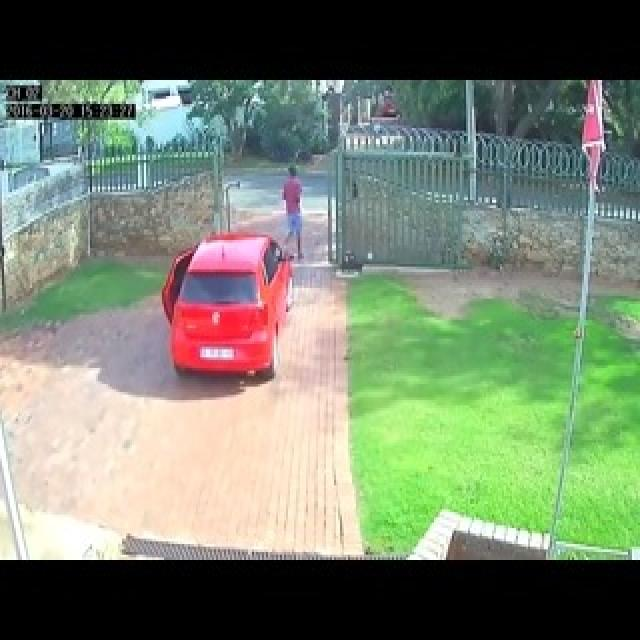thief: (274, 148, 310, 242)
